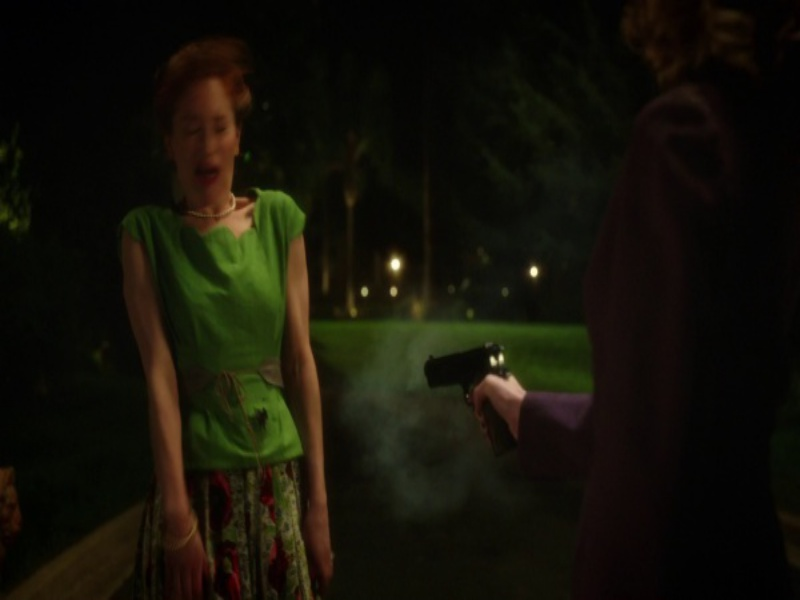person: (474, 1, 795, 592), (135, 40, 317, 590)
weapon: (422, 349, 521, 460)
